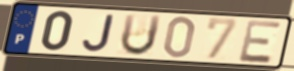0: (161, 15, 197, 60), (39, 10, 76, 52)
7: (204, 17, 241, 62)
E: (237, 19, 284, 65)
J: (81, 13, 116, 54)
U: (118, 13, 164, 58)
